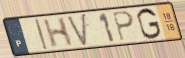1: (98, 12, 117, 43)
G: (136, 7, 163, 41)
H: (42, 15, 75, 50)
I: (33, 18, 49, 51)
P: (111, 10, 136, 43)
V: (65, 12, 88, 48)
